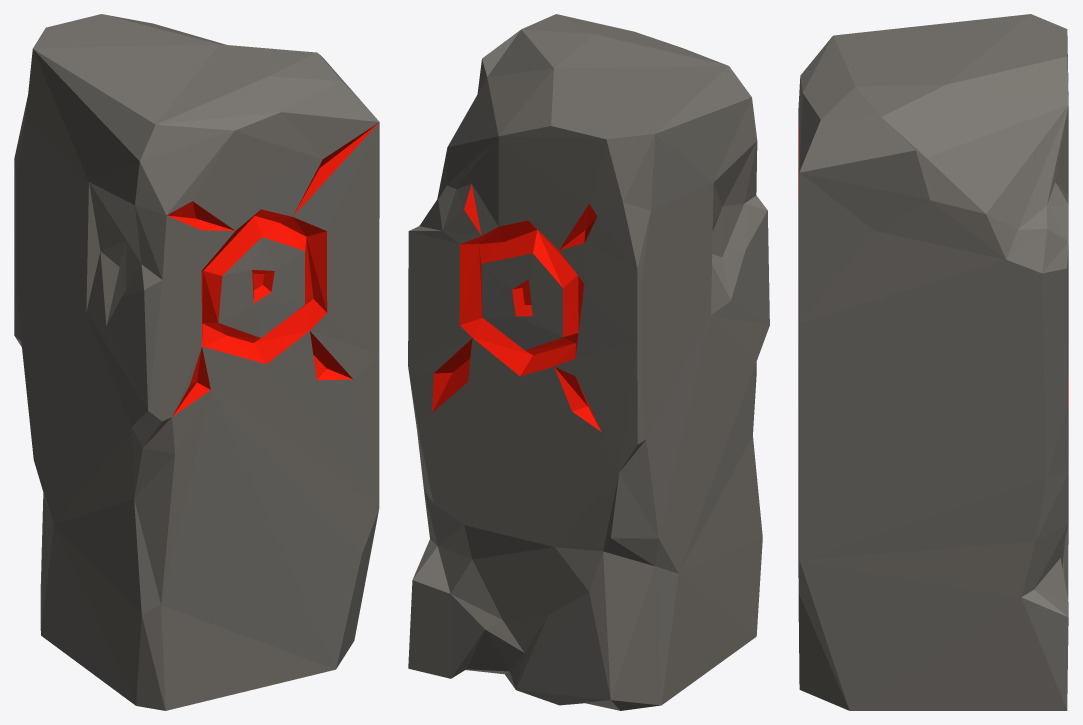
File: SM_Env_Rune_Pillar_04.fbx
3 views of the same model, side by side, from view 1: azimuth 30°, elevation 25°; view 2: azimuth 150°, elevation 25°; view 3: azimuth 270°, elevation 25° (orthographic).
Parts seen in each view (by area): view 1: SM_Env_Rune_Pillar_04; view 2: SM_Env_Rune_Pillar_04; view 3: SM_Env_Rune_Pillar_04.
Part boxes in pixels (x1,y1,x2,y2): SM_Env_Rune_Pillar_04: [14, 14, 379, 710]; SM_Env_Rune_Pillar_04: [408, 14, 769, 710]; SM_Env_Rune_Pillar_04: [798, 14, 1068, 710].
Bounding box in the file's own units: 1 × 2.38 × 1.
